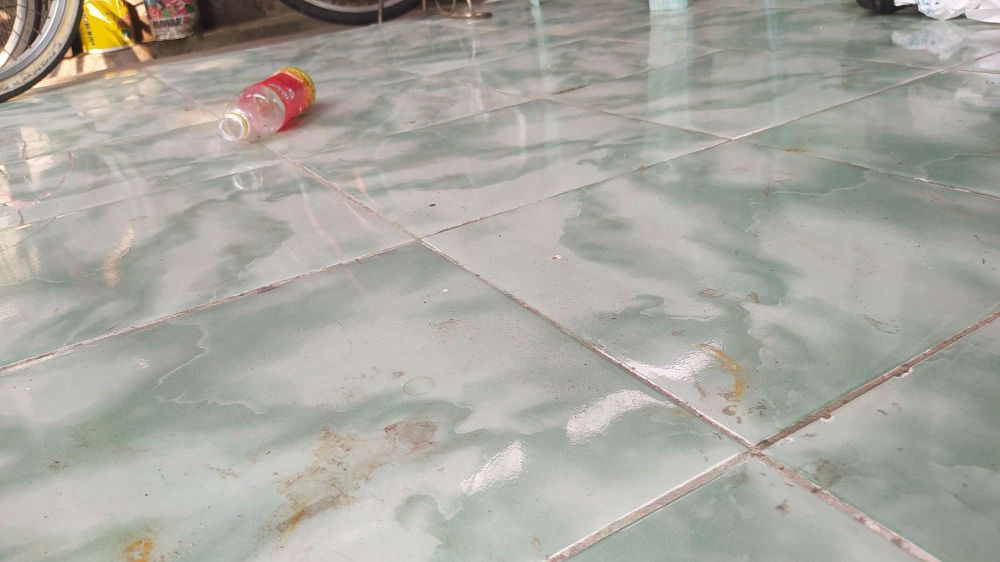botol: (214, 40, 328, 151)
